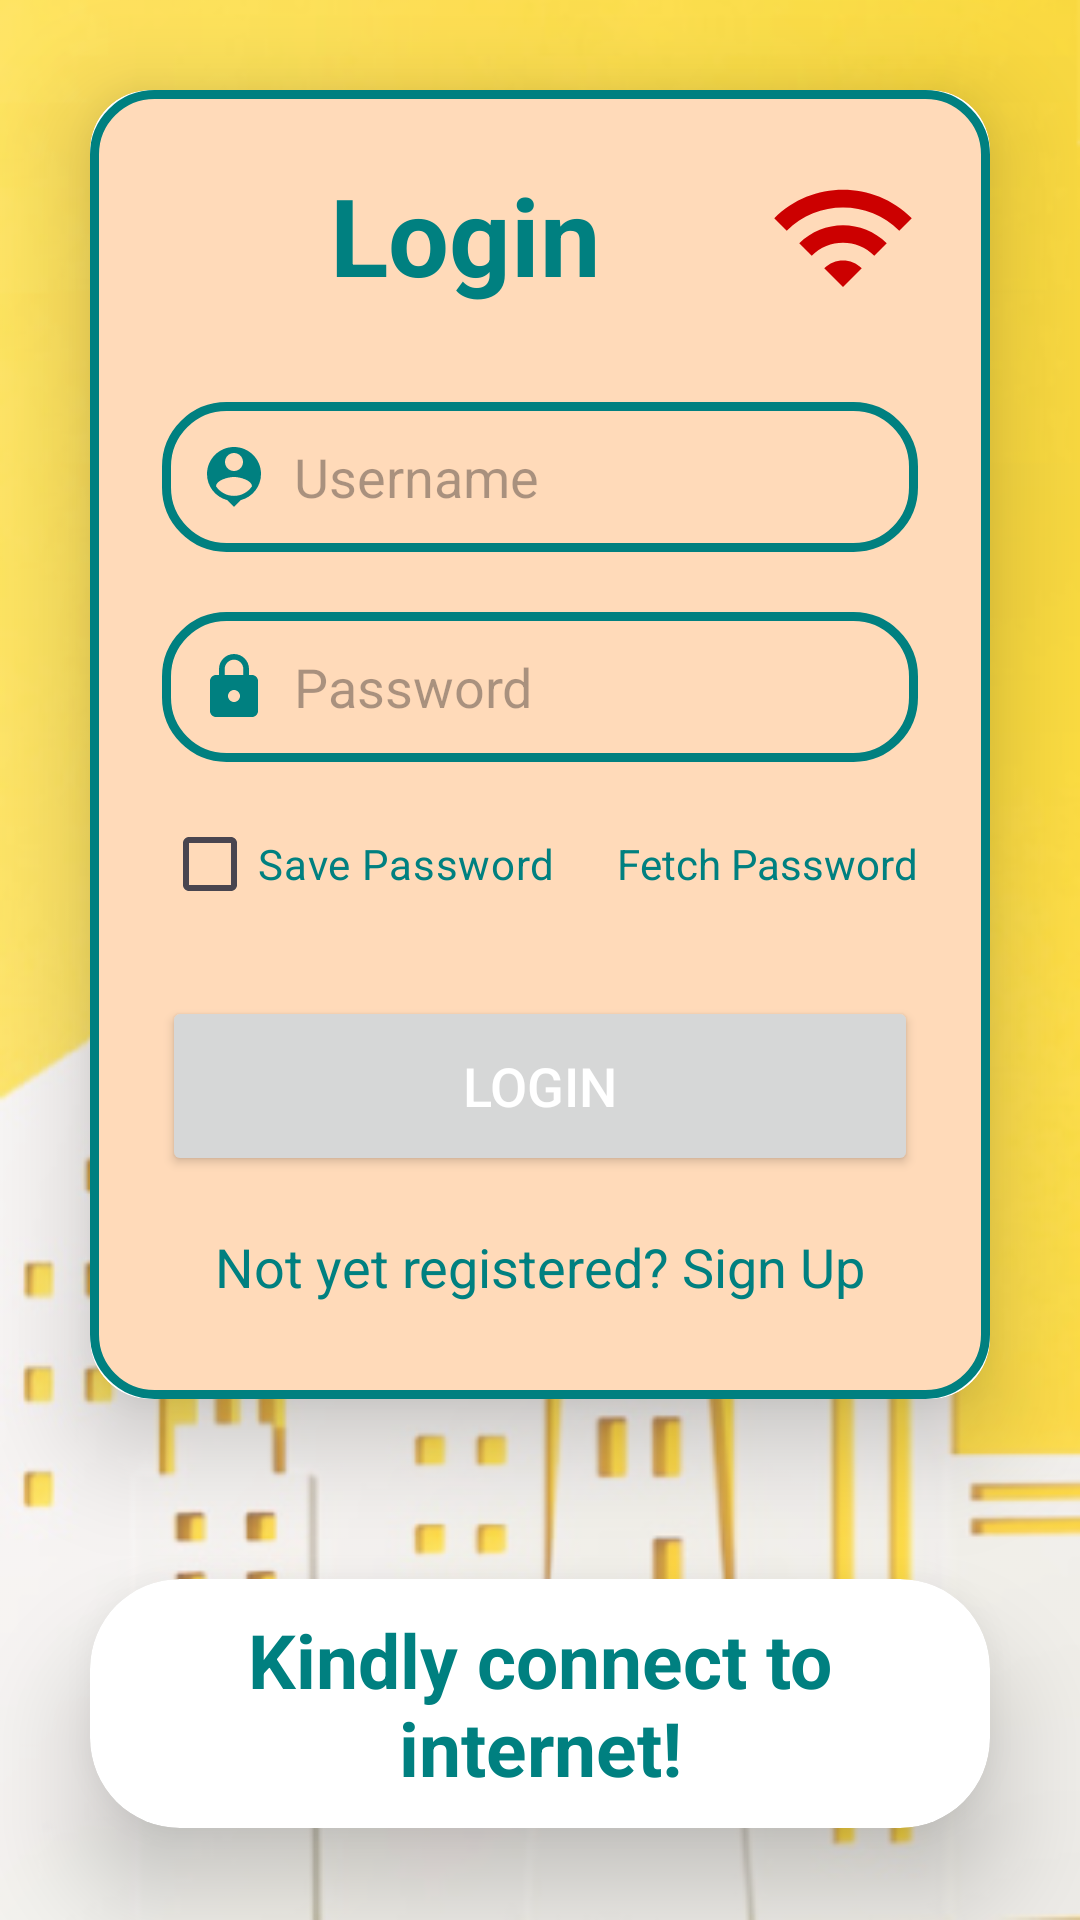

Screen size 1080 × 1920. Icon name, then its box in pixels as bbox(x1, y1, x2, y2):
wifi: bbox(774, 189, 912, 287)
